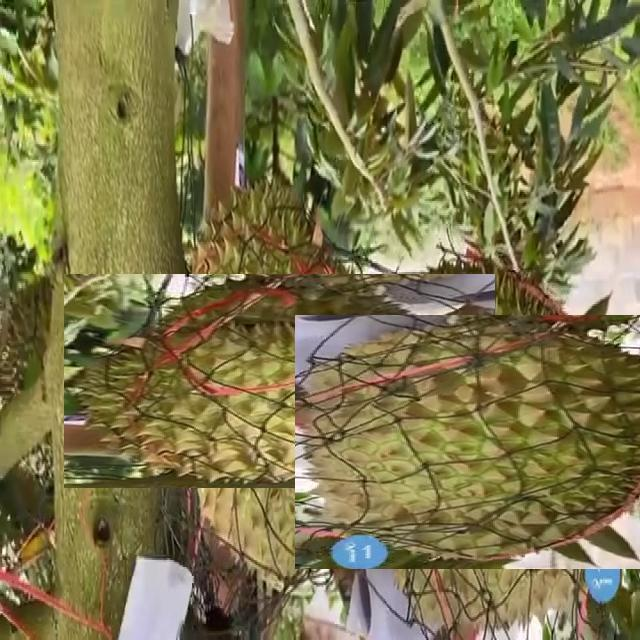durian: (118, 220, 440, 542), (329, 281, 640, 605)
